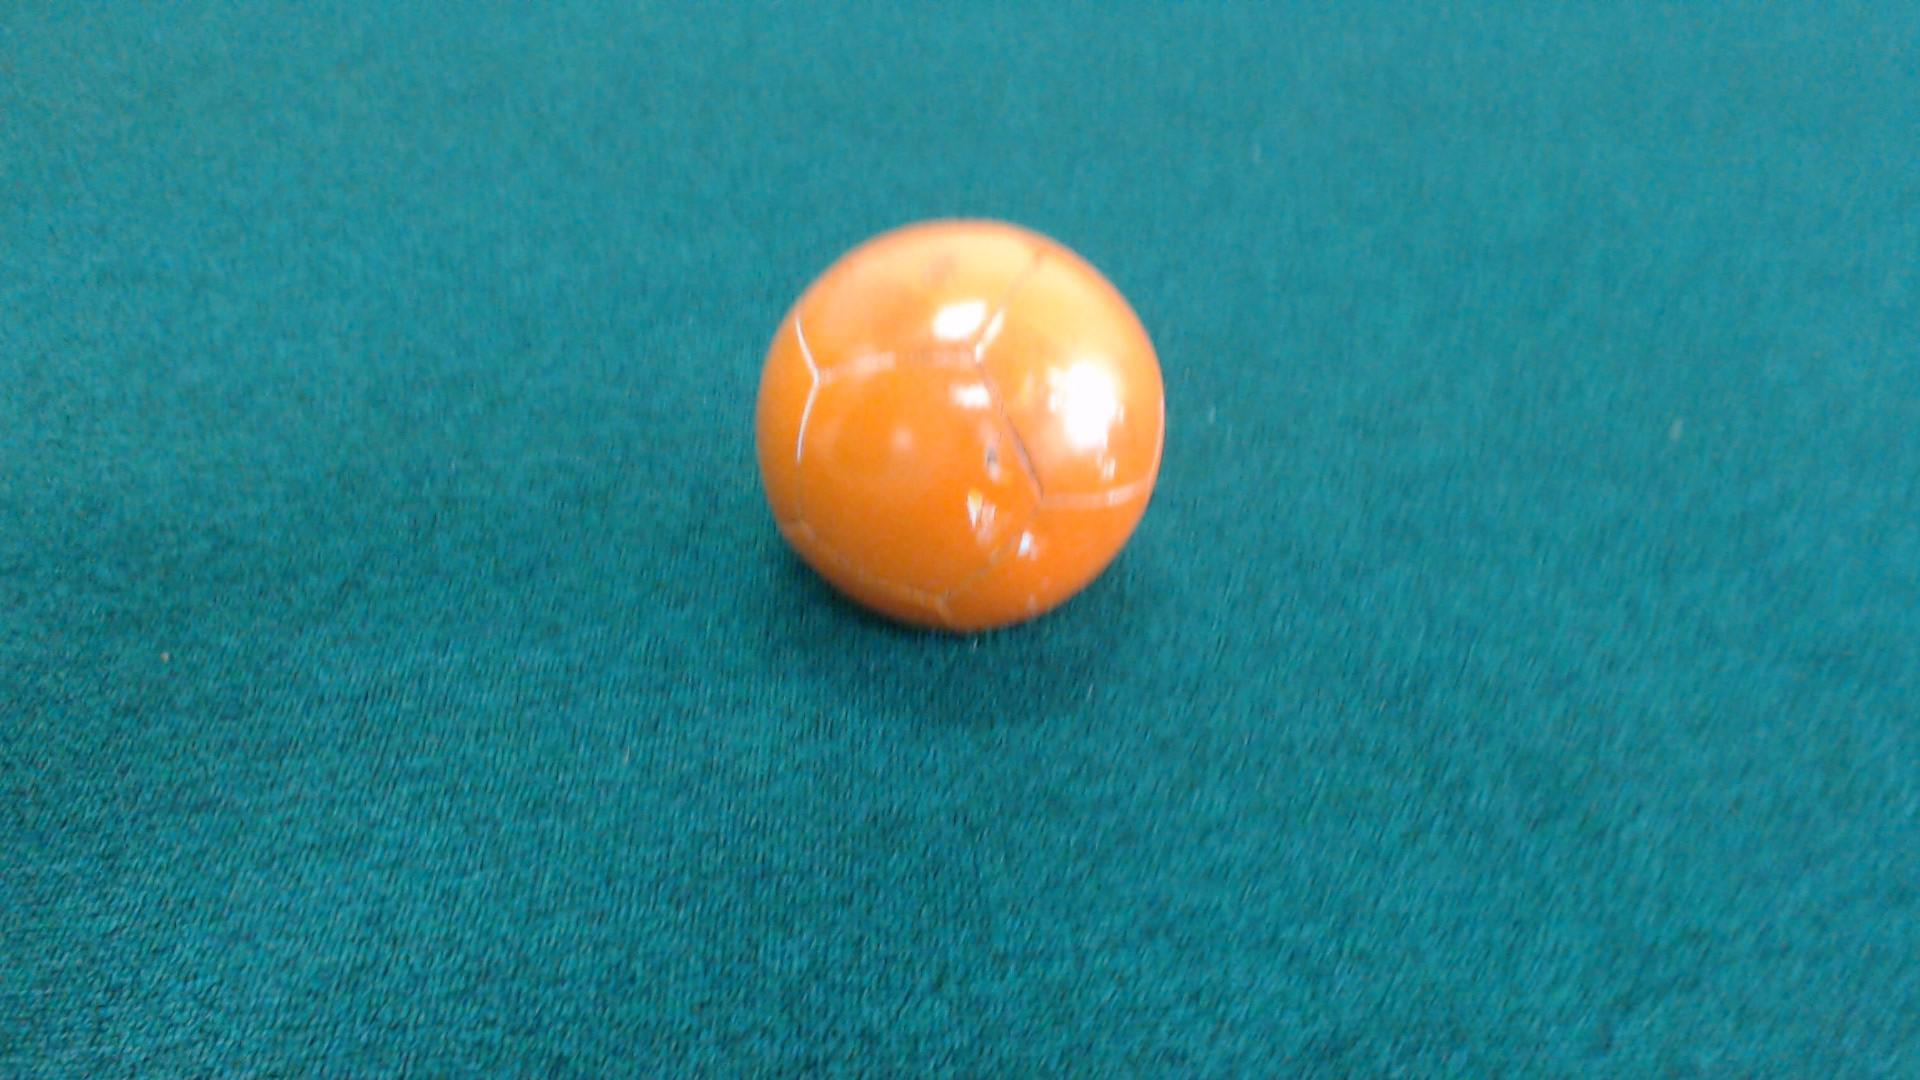bola: (703, 181, 1196, 688)
